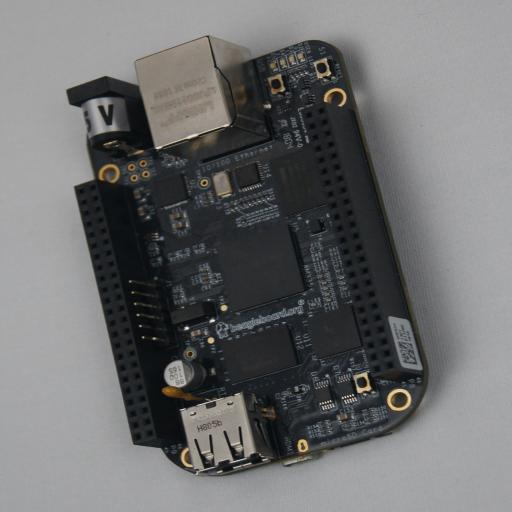Beaglebone Black: (66, 36, 436, 476)
